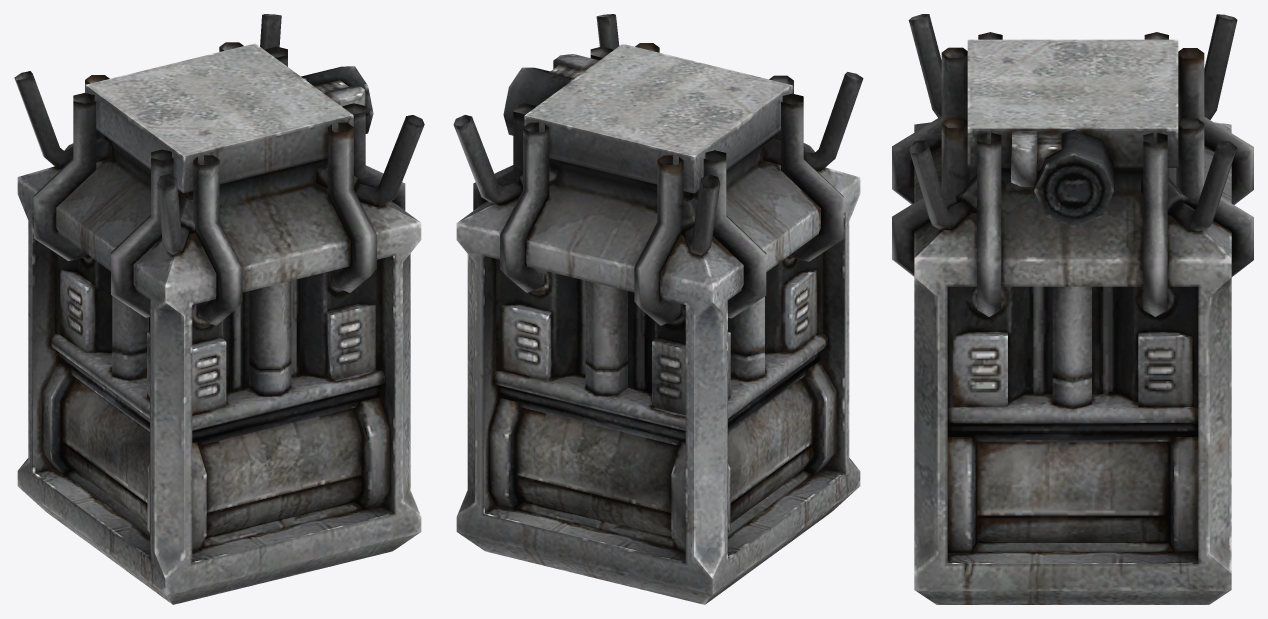
Rendered from tech_ceiling_theta_02.DAE.
3 views of the same model, side by side, from view 1: azimuth 30°, elevation 25°; view 2: azimuth 150°, elevation 25°; view 3: azimuth 270°, elevation 25° (orthographic). The views are drawn at different scales.
Visible parts, largest first — view 1: tech_ceiling_theta_02; view 2: tech_ceiling_theta_02; view 3: tech_ceiling_theta_02.
Boxes of the visible parts, x1,y1,x2,y2 form: tech_ceiling_theta_02: (14, 14, 424, 604); tech_ceiling_theta_02: (453, 14, 863, 604); tech_ceiling_theta_02: (892, 14, 1253, 604).
Size of the model in its own units: 0.7118 by 1.01 by 0.7073.
